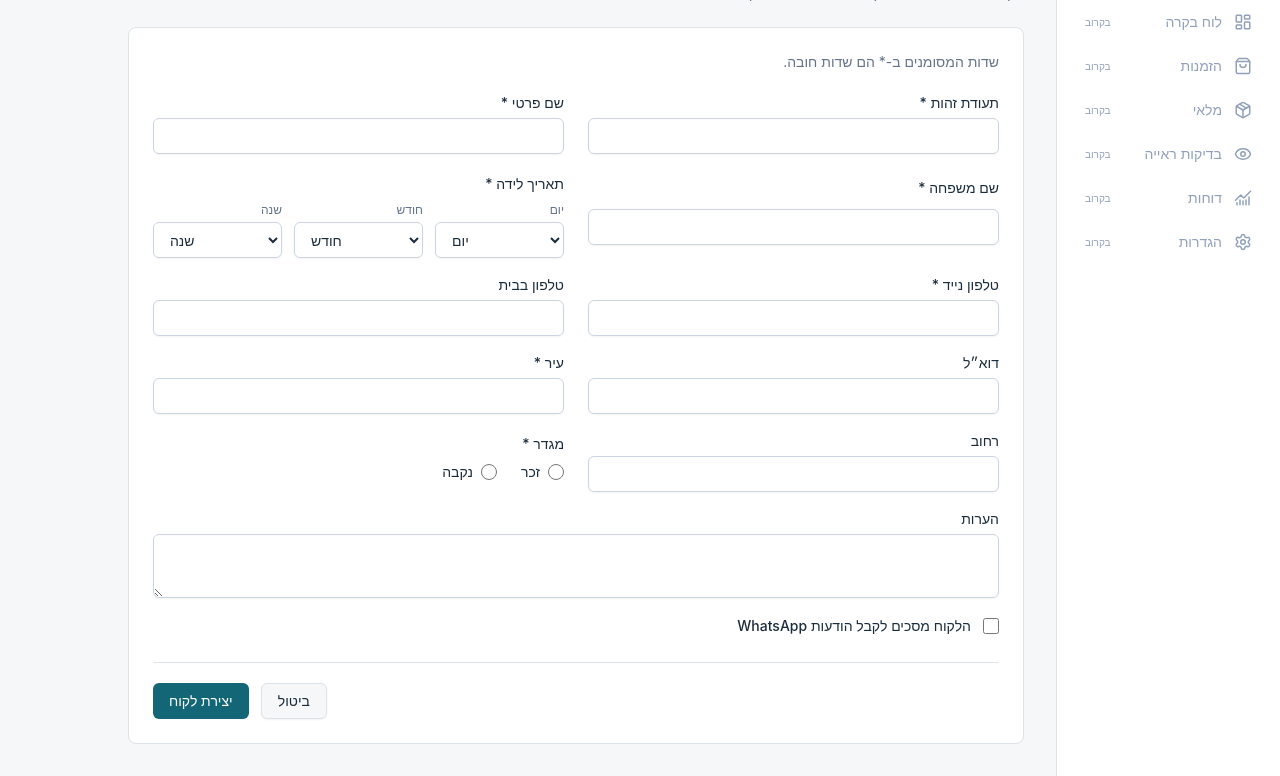
it: customer workflows › prevents invalid create and labels required fields
The width and height of the screenshot is (1280, 776).
(page scrolled)
Click the button "יצירת לקוח" at x=201, y=701, box x1=153 y1=683 x2=249 y2=719
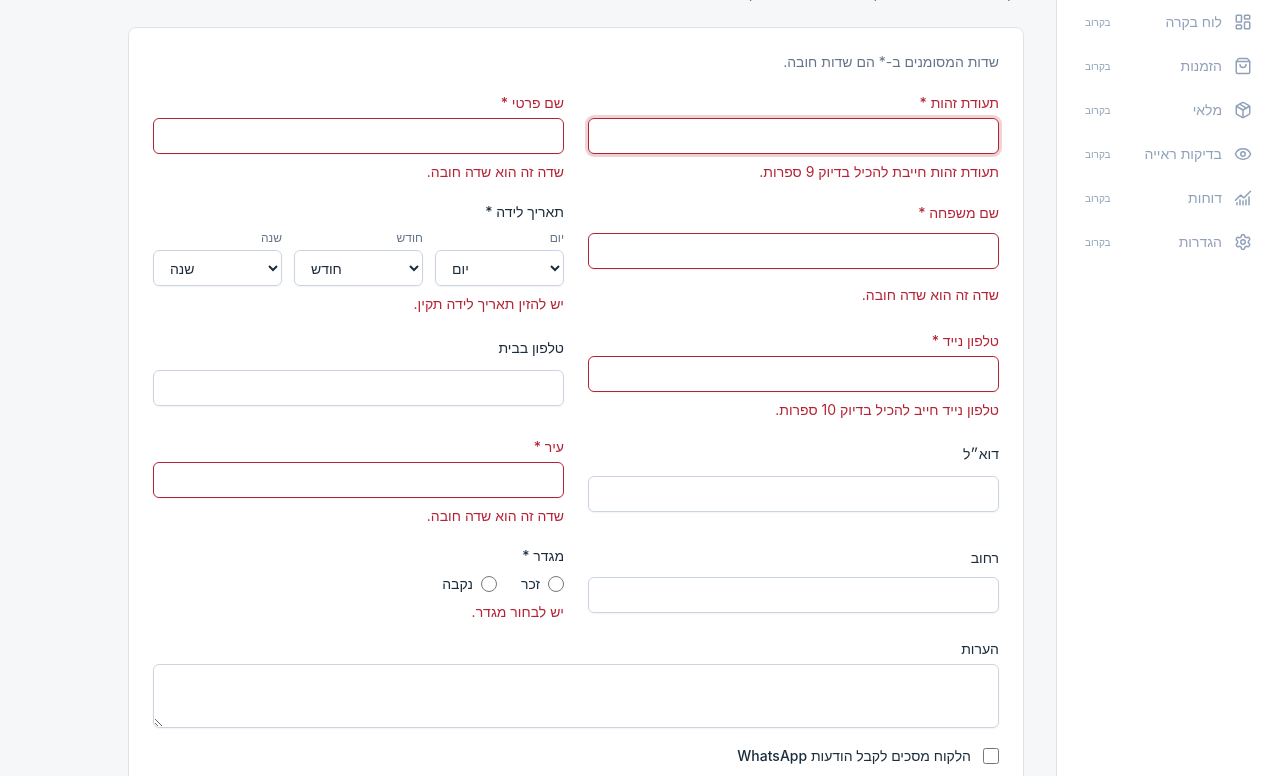
Expected: the text "שדה זה הוא שדה חובה." is shown 3 times, x1=427 y1=163 x2=564 y2=180; x1=862 y1=286 x2=999 y2=303; x1=427 y1=507 x2=564 y2=524
Expected: the text "תעודת זהות חייבת להכיל בדיוק 9 ספרות." is shown, x1=759 y1=163 x2=999 y2=180
Expected: the text "טלפון נייד חייב להכיל בדיוק 10 ספרות." is shown, x1=775 y1=401 x2=999 y2=418
